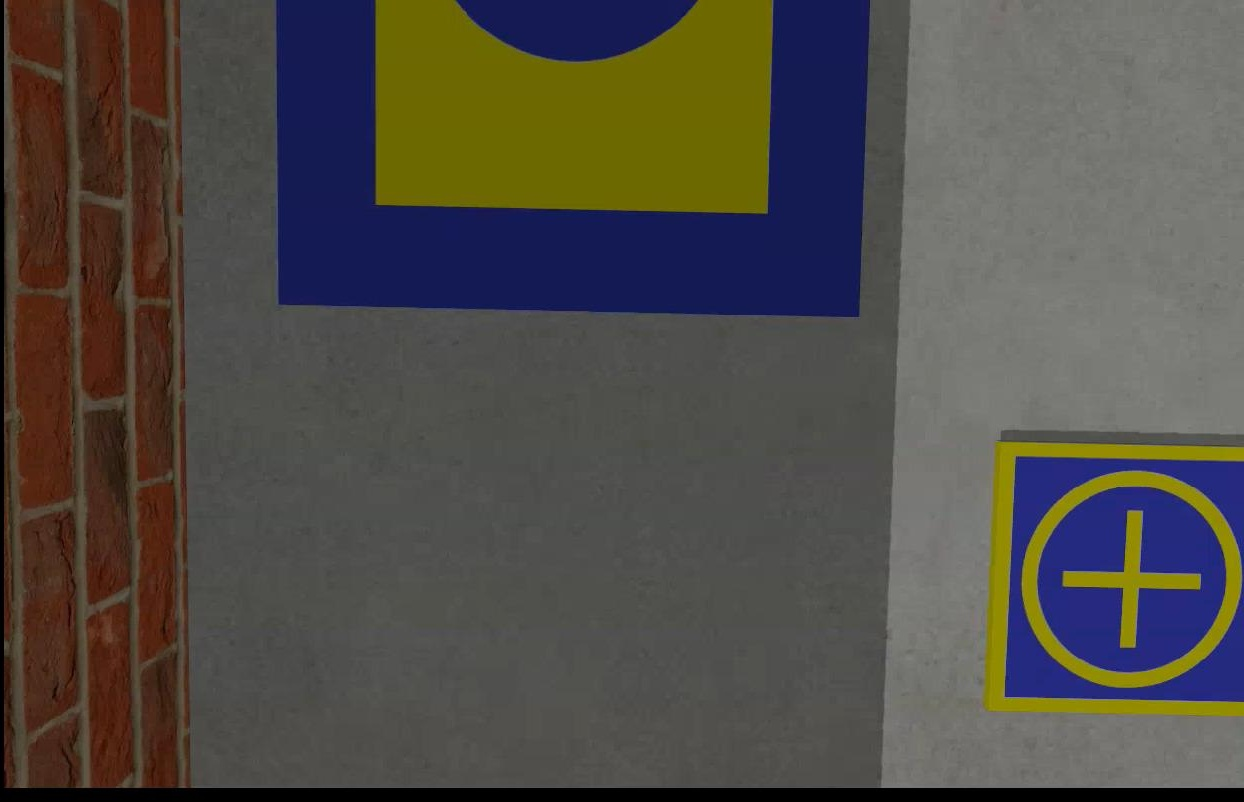large_base: (271, 1, 869, 324)
small_base: (980, 440, 1242, 720)
